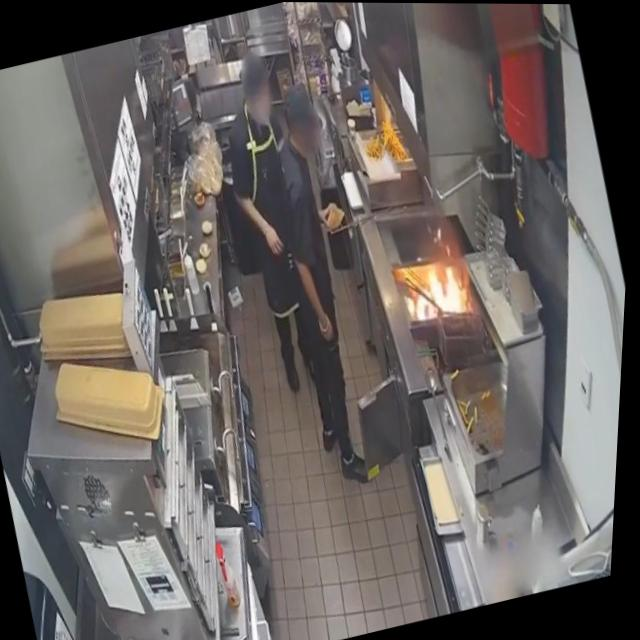fire: (407, 254, 475, 321)
